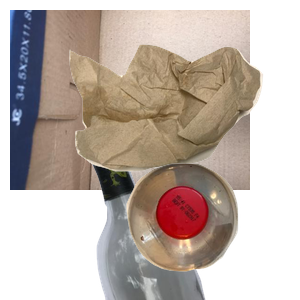cardboard: (10, 10, 250, 190)
glass: (81, 120, 300, 300)
plastic: (124, 161, 300, 300)
trash: (67, 42, 300, 206)
